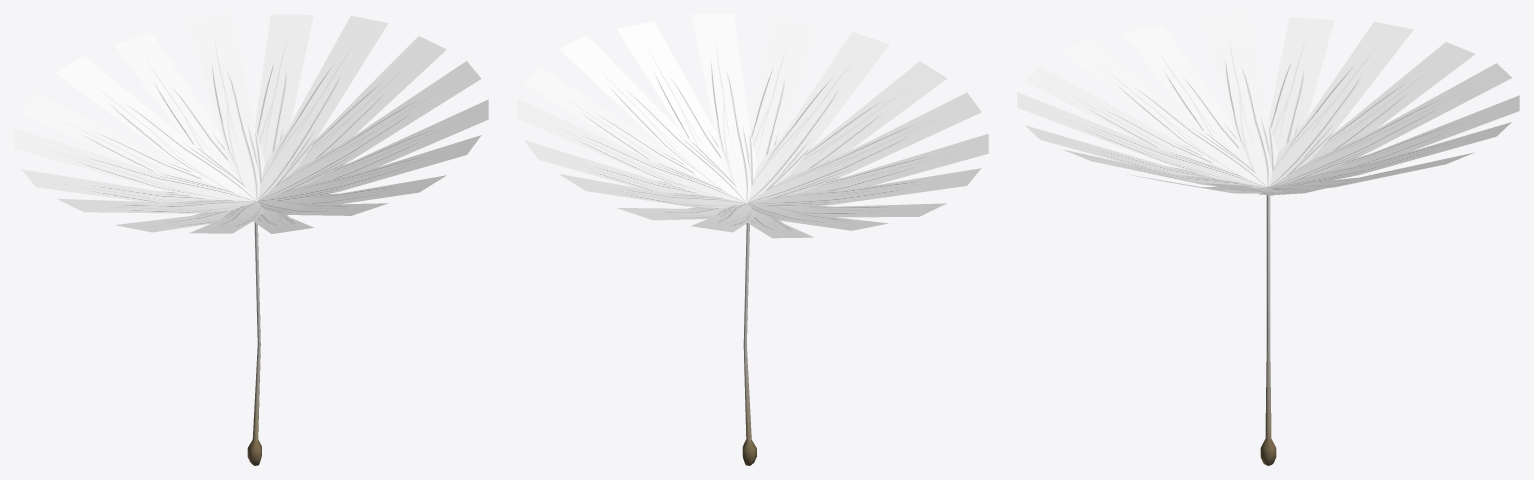
File: fluff_model.fbx
3 views of the same model, side by side, from view 1: azimuth 30°, elevation 25°; view 2: azimuth 150°, elevation 25°; view 3: azimuth 270°, elevation 25° (orthographic). The views are drawn at different scales.
Parts seen in each view (by area): view 1: fluff; view 2: fluff; view 3: fluff.
Part boxes in pixels (left/top/right/bottom): fluff: left=14, top=14, right=488, bottom=465; fluff: left=517, top=14, right=988, bottom=465; fluff: left=1017, top=14, right=1519, bottom=465.
Size of the model in its own units: 3.83 by 3.23 by 3.84.
